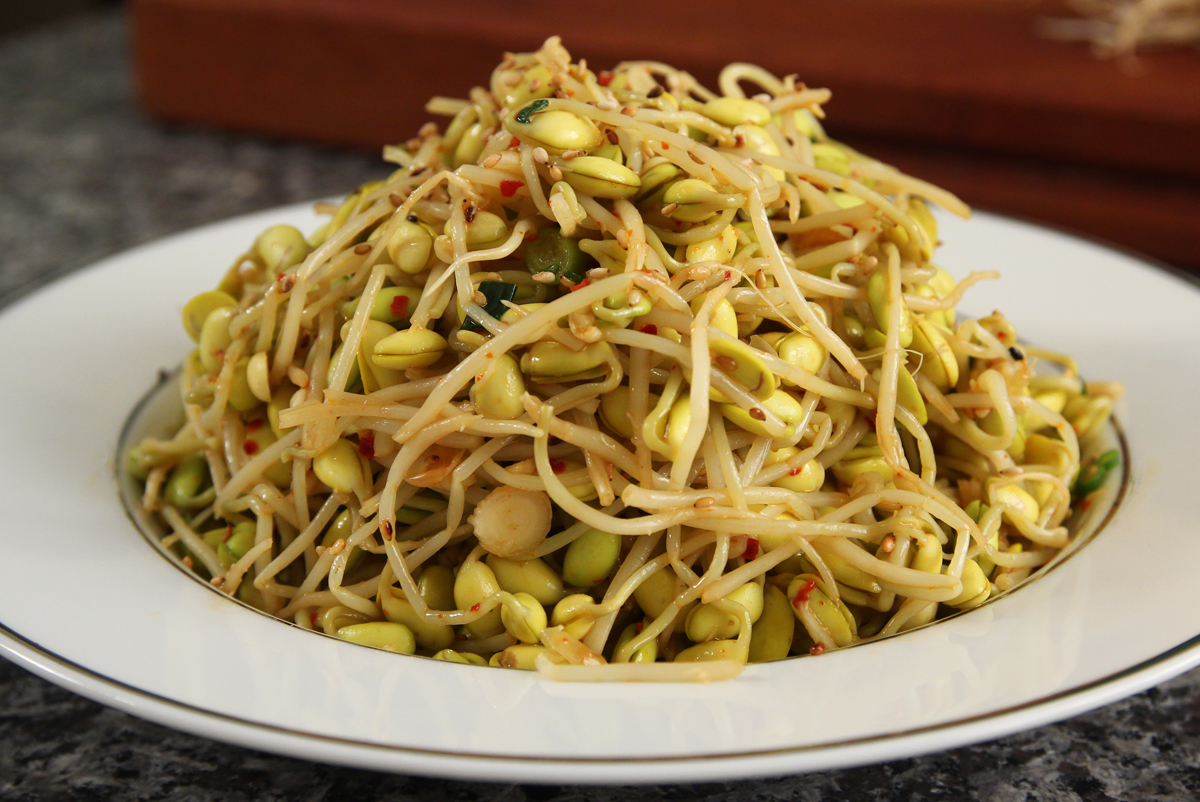mung_bean_sprouts: (287, 83, 977, 593)
